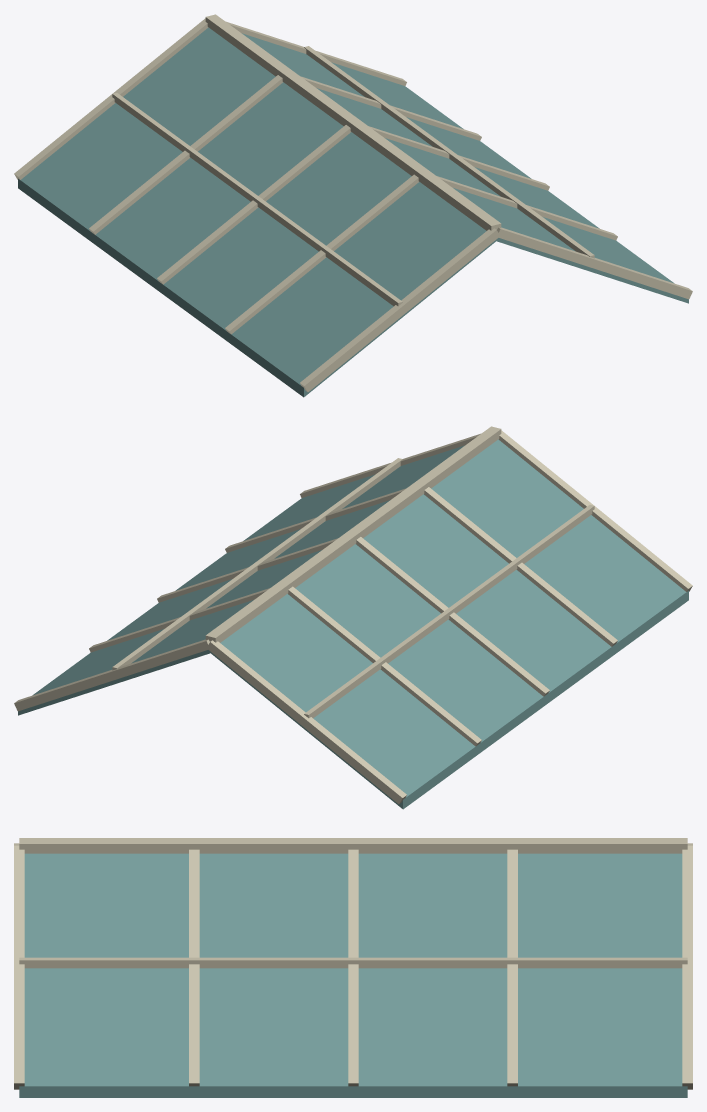
The model's file is Backyard_GreenhouseRoof_Showcase.glb.
The picture shows the model from 3 angles, top to bottom: view 1: azimuth 30°, elevation 25°; view 2: azimuth 150°, elevation 25°; view 3: azimuth 270°, elevation 25°; orthographic projection. The views are drawn at different scales.
Visible parts, largest first — view 1: Backyard_GreenhouseRoof_Showcase; view 2: Backyard_GreenhouseRoof_Showcase; view 3: Backyard_GreenhouseRoof_Showcase.
Boxes of the visible parts, x1,y1,x2,y2 form: Backyard_GreenhouseRoof_Showcase: (14, 14, 692, 397); Backyard_GreenhouseRoof_Showcase: (14, 426, 692, 809); Backyard_GreenhouseRoof_Showcase: (14, 838, 692, 1097).
Bounding box in the file's own units: 4.95 × 1.53 × 6.4.
